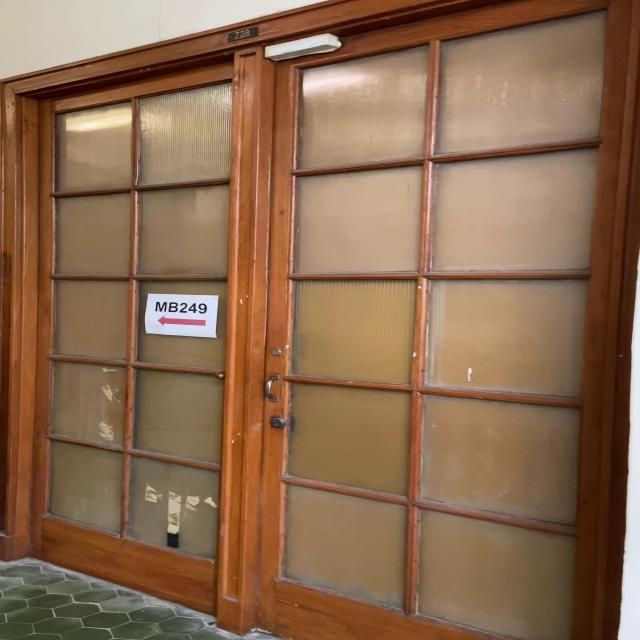room228: (226, 25, 260, 43)
